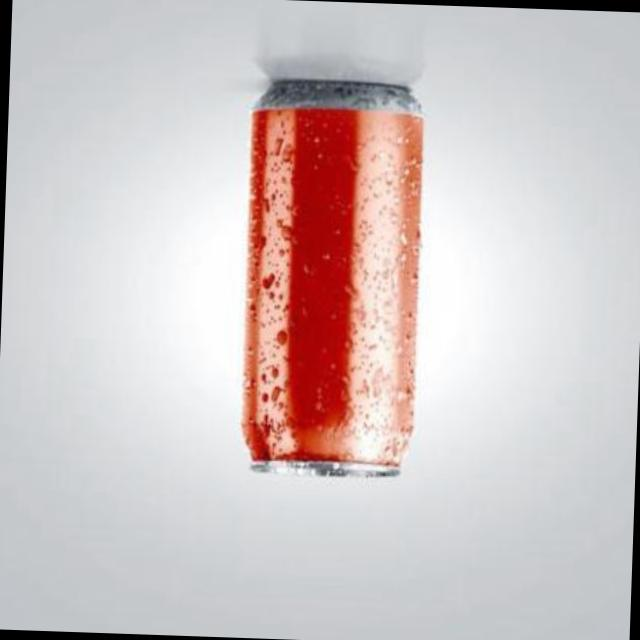metal: (245, 84, 424, 477)
